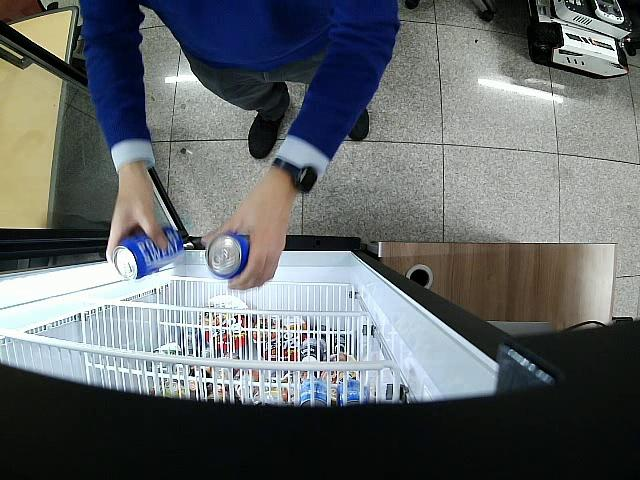00_hand: (201, 177, 293, 290), (108, 172, 168, 264)
13_pocariSweat: (113, 227, 185, 280), (205, 232, 250, 280)
